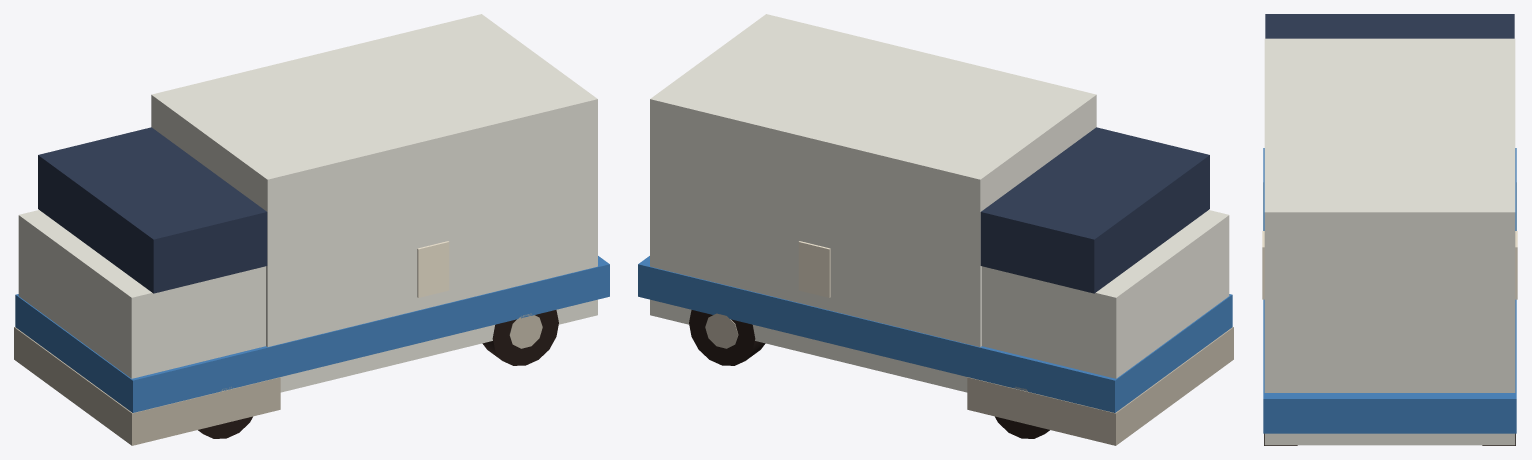
The model's file is milk_truck.glb.
3 views of the same model, side by side, from view 1: azimuth 30°, elevation 25°; view 2: azimuth 150°, elevation 25°; view 3: azimuth 270°, elevation 25° (orthographic). The views are drawn at different scales.
Parts seen in each view (by area): view 1: Box1, Box3, Box2, Box4, Box5, Part2, Box7, Part4; view 2: Box1, Box3, Box2, Box4, Box5, Part1, Box6, Part3; view 3: Box1, Box4, Box3.
Part boxes in pixels (x1=…): Box1: x1=151, y1=14, x2=597, y2=392; Box3: x1=38, y1=127, x2=267, y2=293; Box2: x1=18, y1=210, x2=265, y2=378; Box4: x1=15, y1=256, x2=609, y2=412; Box5: x1=14, y1=327, x2=280, y2=445; Part2: x1=482, y1=310, x2=558, y2=365; Box7: x1=417, y1=241, x2=449, y2=297; Part4: x1=198, y1=387, x2=252, y2=438; Box1: x1=650, y1=14, x2=1096, y2=392; Box3: x1=980, y1=127, x2=1209, y2=293; Box2: x1=982, y1=210, x2=1229, y2=378; Box4: x1=638, y1=256, x2=1232, y2=412; Box5: x1=967, y1=327, x2=1233, y2=445; Part1: x1=689, y1=310, x2=765, y2=365; Box6: x1=798, y1=241, x2=830, y2=297; Part3: x1=995, y1=387, x2=1049, y2=438; Box1: x1=1264, y1=38, x2=1515, y2=445; Box4: x1=1263, y1=148, x2=1516, y2=433; Box3: x1=1265, y1=14, x2=1514, y2=38.
Bounding box in the file's own units: 4.63 × 2.3 × 1.99.
